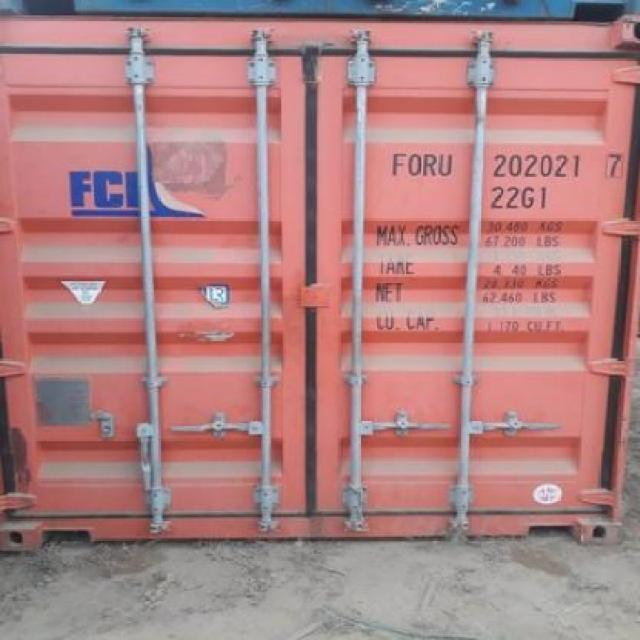ISO: (493, 186, 549, 212)
container_number: (388, 150, 626, 180)
